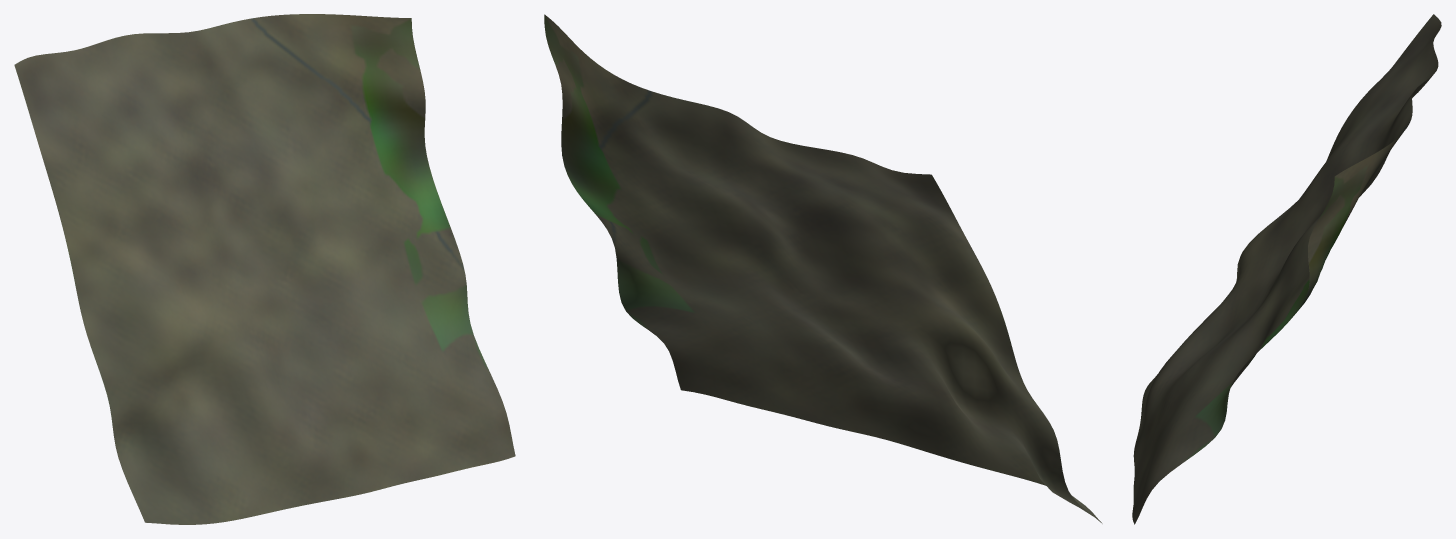
Rendered from ground_mid_09_03.obj.
3 renders of one model, left to right at view 1: azimuth 30°, elevation 25°; view 2: azimuth 150°, elevation 25°; view 3: azimuth 270°, elevation 25°, orthographic. The views are drawn at different scales.
Visible parts, largest first — view 1: ground_mid_09_03; view 2: ground_mid_09_03; view 3: ground_mid_09_03.
Boxes of the visible parts, left/top/right/bottom form: ground_mid_09_03: left=14, top=14, right=515, bottom=524; ground_mid_09_03: left=544, top=14, right=1102, bottom=523; ground_mid_09_03: left=1132, top=14, right=1441, bottom=524.
Bounding box in the file's own units: 200 × 200 × 161.
Materials: 1 (1 with a texture image).
